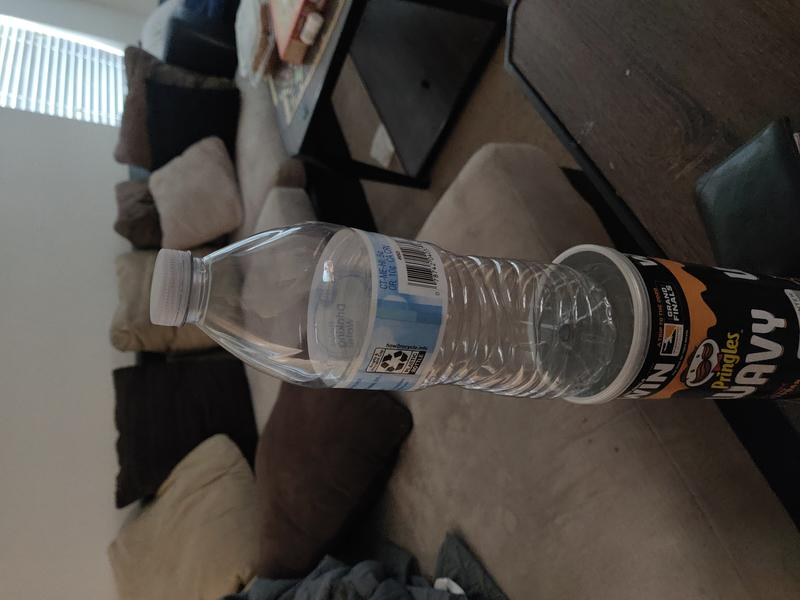bottle: (148, 219, 616, 401)
